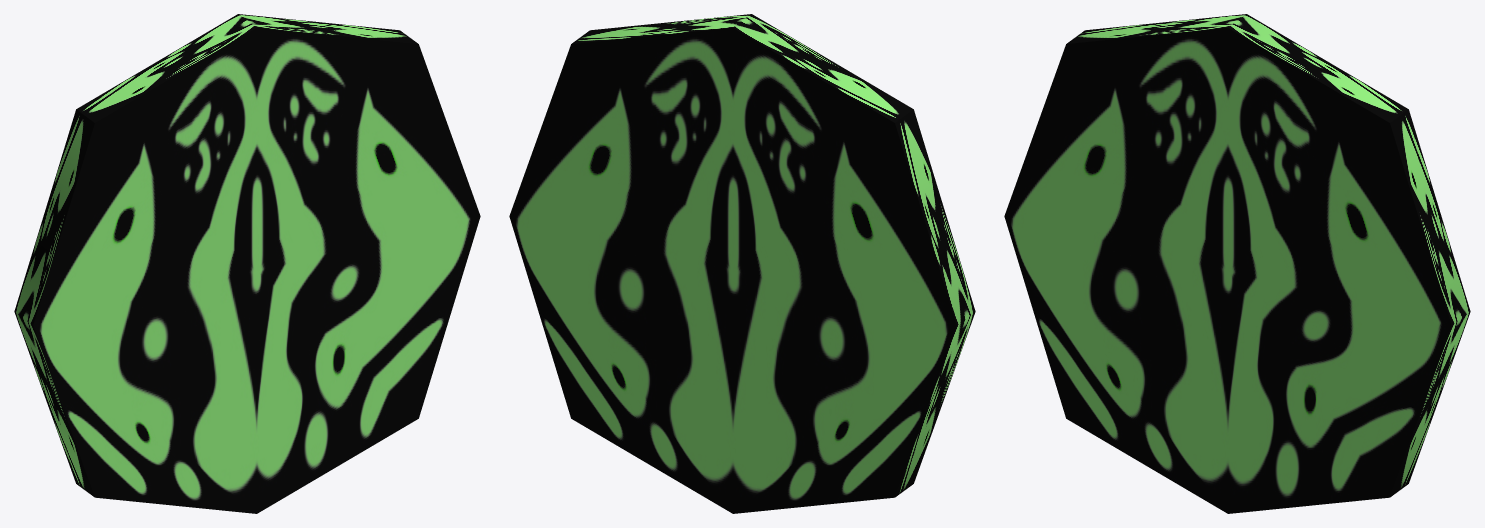
The model's file is koinG.fbx.
3 renders of one model, left to right at view 1: azimuth 30°, elevation 25°; view 2: azimuth 150°, elevation 25°; view 3: azimuth 330°, elevation 25°, orthographic.
Parts seen in each view (by area): view 1: koin; view 2: koin; view 3: koin.
Boxes of the visible parts, left/top/right/bottom form: koin: left=14, top=14, right=480, bottom=513; koin: left=509, top=14, right=975, bottom=513; koin: left=1004, top=14, right=1470, bottom=513.
Size of the model in its own units: 33.66 by 2.45 by 34.95.
1 material, 1 textured.
